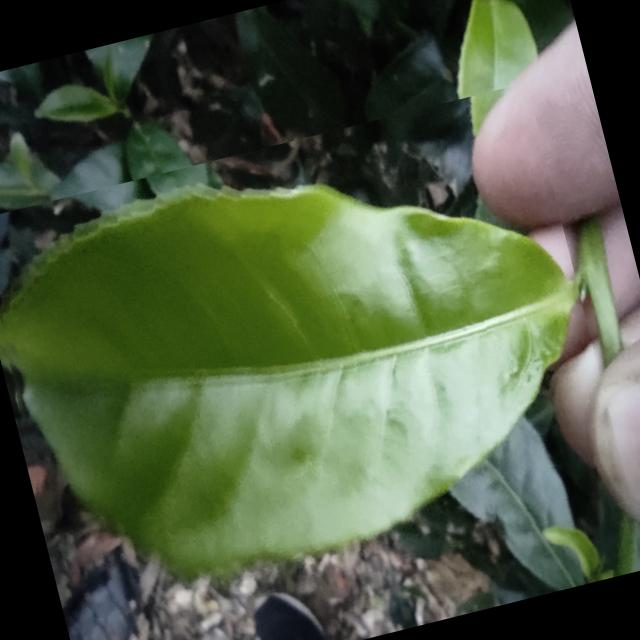Category C 4-7 days: (0, 81, 631, 640)
